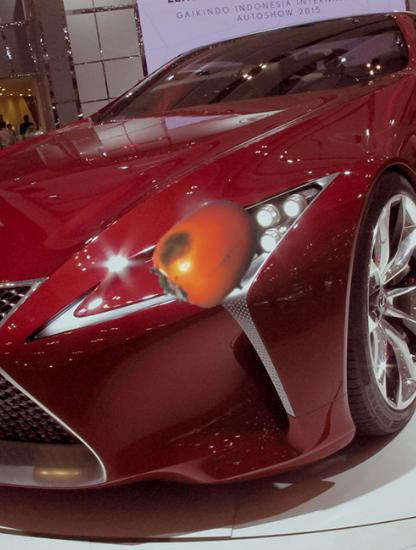Kaki: (148, 196, 270, 318)
